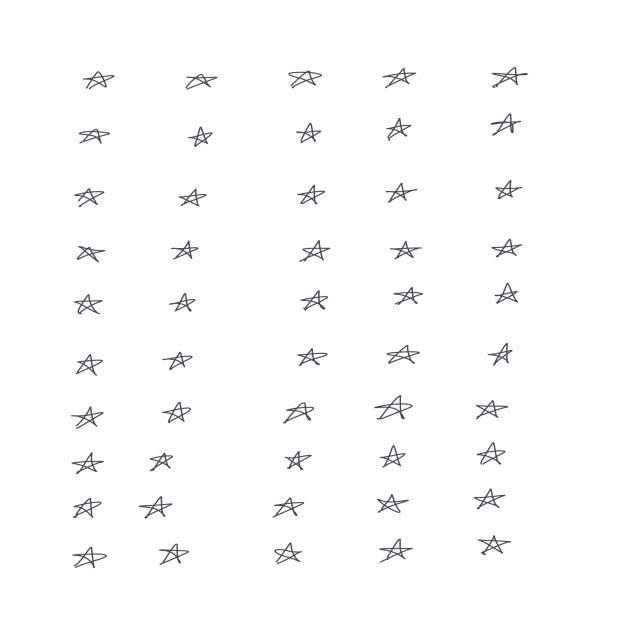Button: (72, 63, 126, 104), (478, 59, 531, 98), (363, 382, 412, 422), (476, 336, 524, 370), (261, 539, 309, 572), (66, 294, 118, 324), (274, 448, 320, 481), (282, 393, 324, 429), (65, 353, 120, 380), (369, 490, 418, 520), (66, 182, 114, 212), (372, 534, 417, 566), (281, 63, 326, 94), (467, 440, 513, 470), (374, 62, 417, 94), (464, 485, 509, 515), (65, 447, 105, 480), (177, 69, 222, 98), (382, 180, 424, 211), (379, 344, 425, 372), (69, 540, 109, 572), (373, 445, 411, 477), (292, 181, 332, 211), (64, 398, 105, 427), (138, 494, 179, 522), (465, 399, 514, 422), (385, 238, 430, 263), (64, 492, 104, 520), (266, 494, 312, 518), (487, 109, 521, 141), (388, 287, 435, 310), (176, 184, 212, 214), (286, 343, 329, 368), (378, 117, 417, 144), (155, 542, 195, 568), (477, 532, 516, 558), (66, 125, 108, 149), (167, 236, 203, 263), (294, 239, 331, 265), (146, 448, 175, 481), (486, 238, 525, 262), (72, 240, 109, 265), (174, 286, 202, 318), (187, 123, 218, 150), (291, 119, 323, 144), (162, 400, 194, 425), (489, 178, 524, 200), (487, 284, 523, 305), (297, 291, 330, 312), (162, 349, 191, 368)
